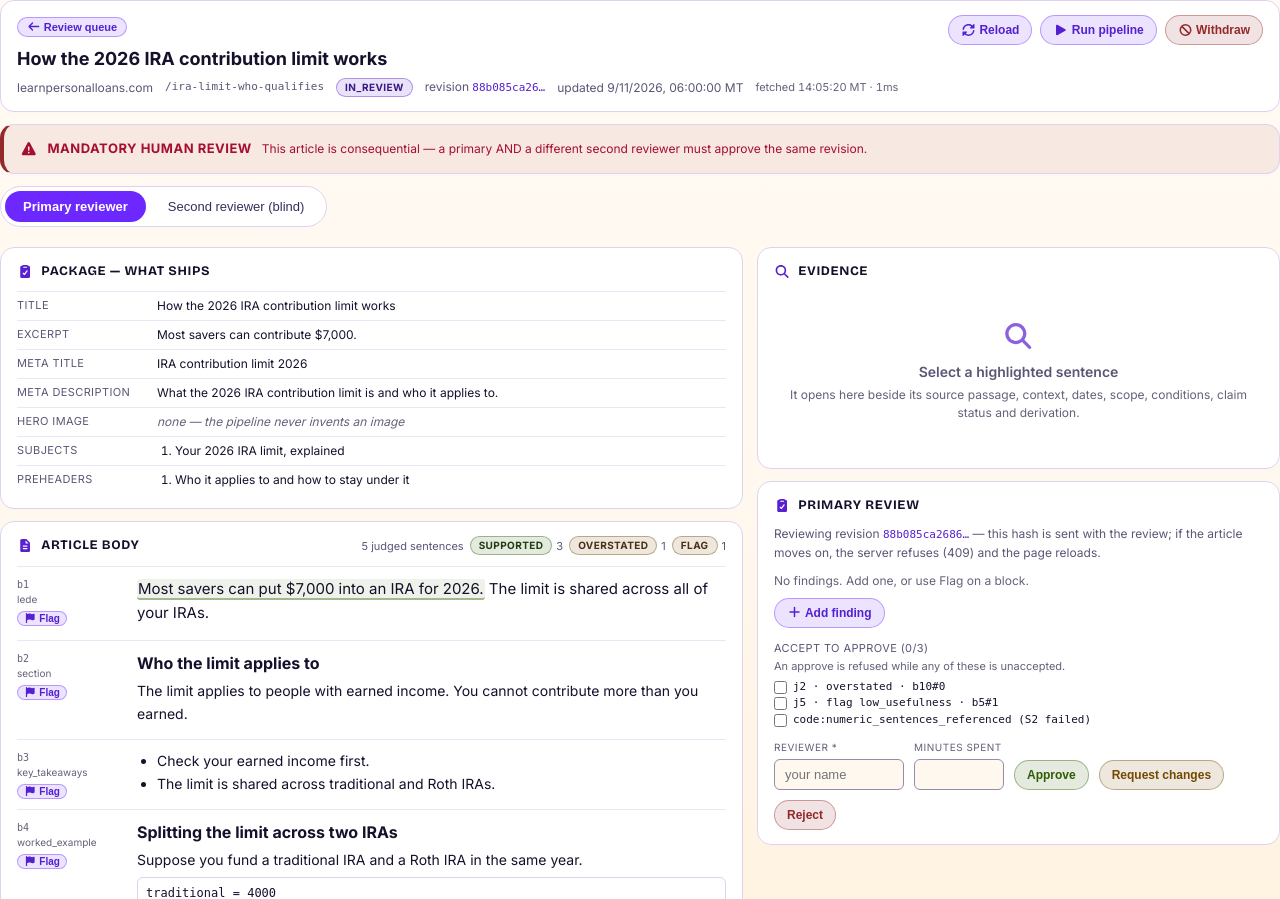
Test case: ContentDeskArticle — review form hash handling › blind second review hides the primary review and verdicts until it submits
Expected: the text "supported" is shown, [479,538,543,553]
Click the tab "Second reviewer (blind)".
click(236, 206)  # box [150,190,322,222]
(page scrolled)
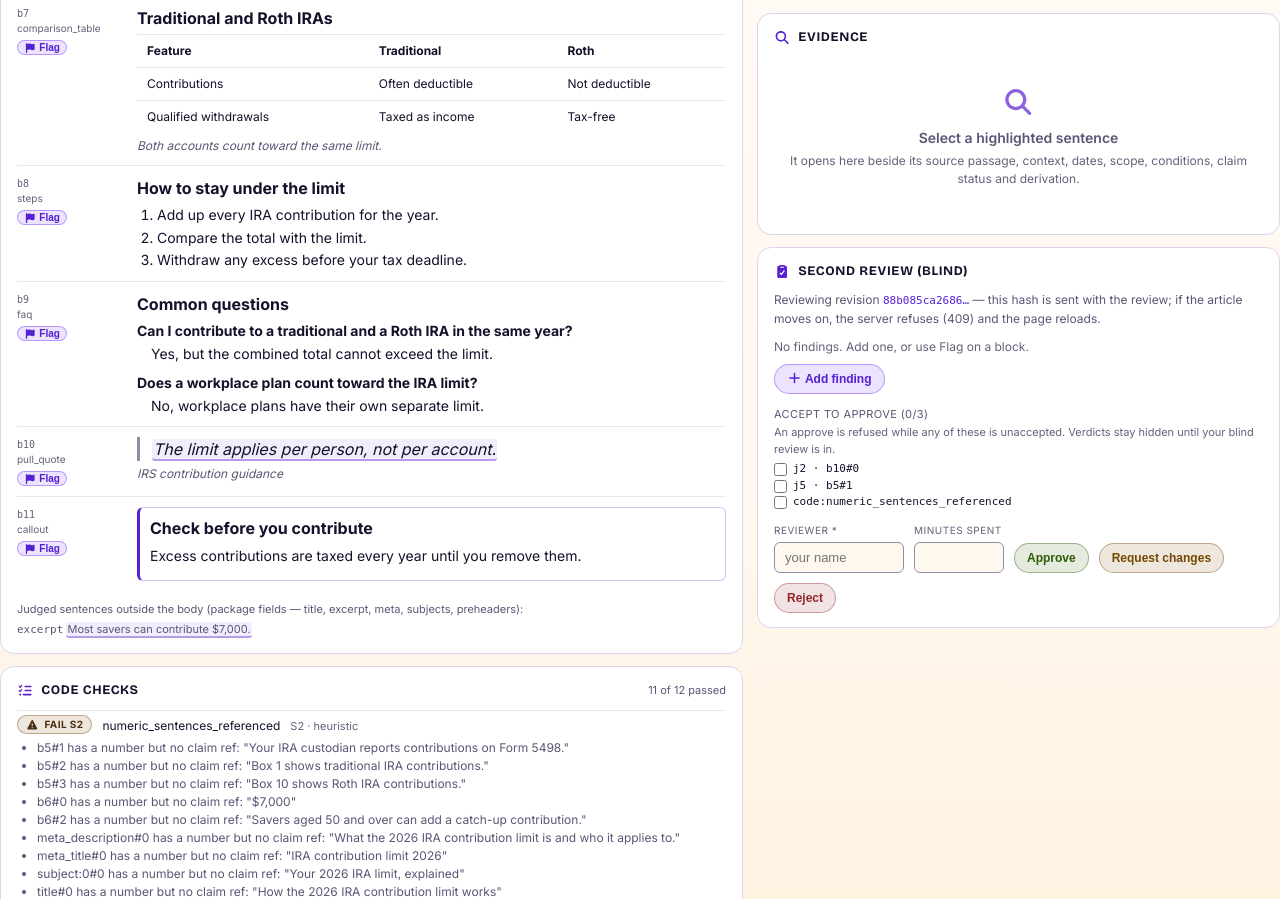
Now no elements with test id "verdict-chip" are shown
Click the 1st button with test id "judged-sentence".
click(324, 450)  # box [152,439,497,461]
(page scrolled)
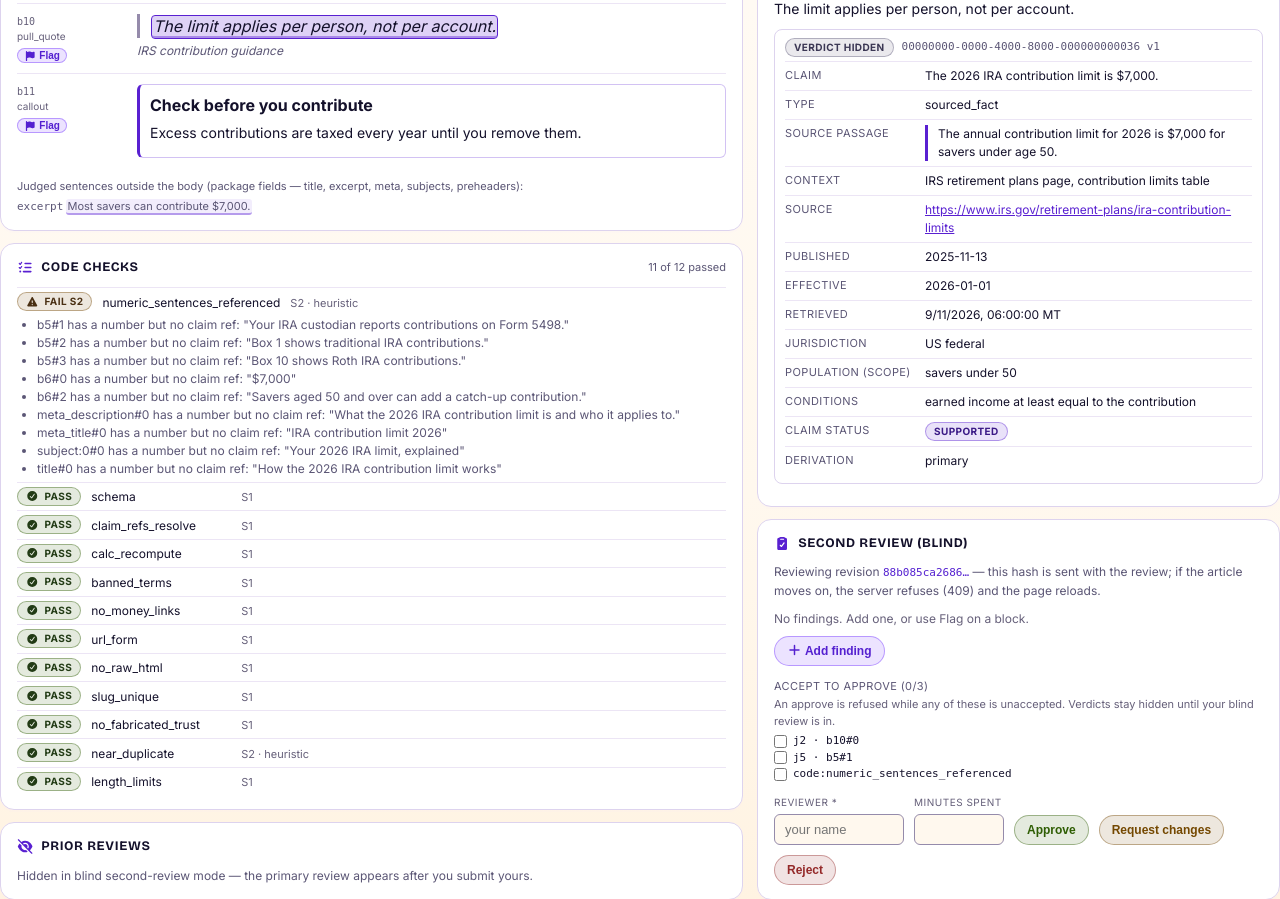
Expected: the text "Lost qualifier" is not shown
Now the text "The annual contribution limit for 2026 is $7,000 for savers under age 50." is shown, box [925,124,1252,160]
Type "bo" into the field labelled "reviewer".
click(839, 829); type("bo")  # box [774,814,904,844]
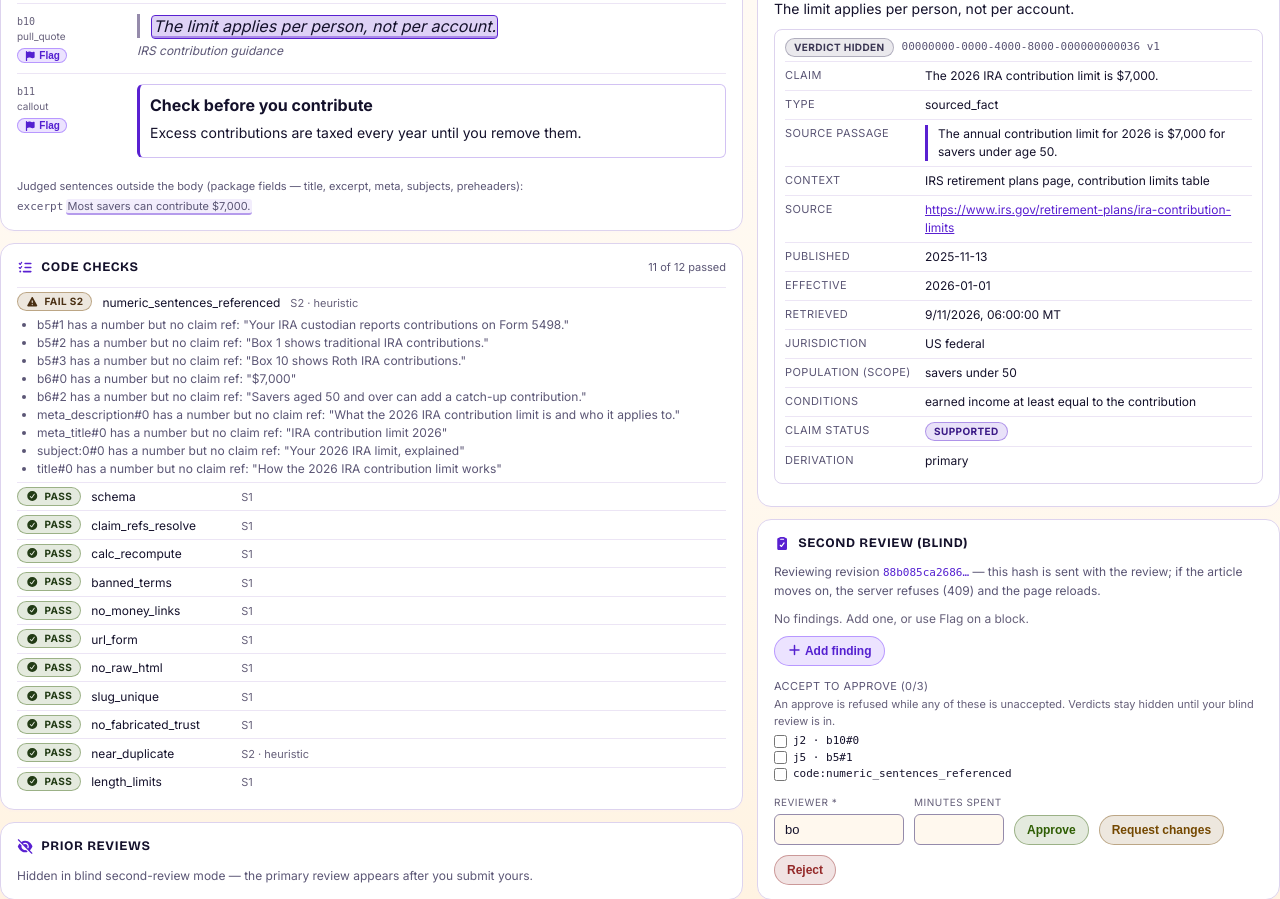
Type "5" into the number field labelled "minutes spent".
click(959, 829); type("5")  # box [914,814,1004,844]
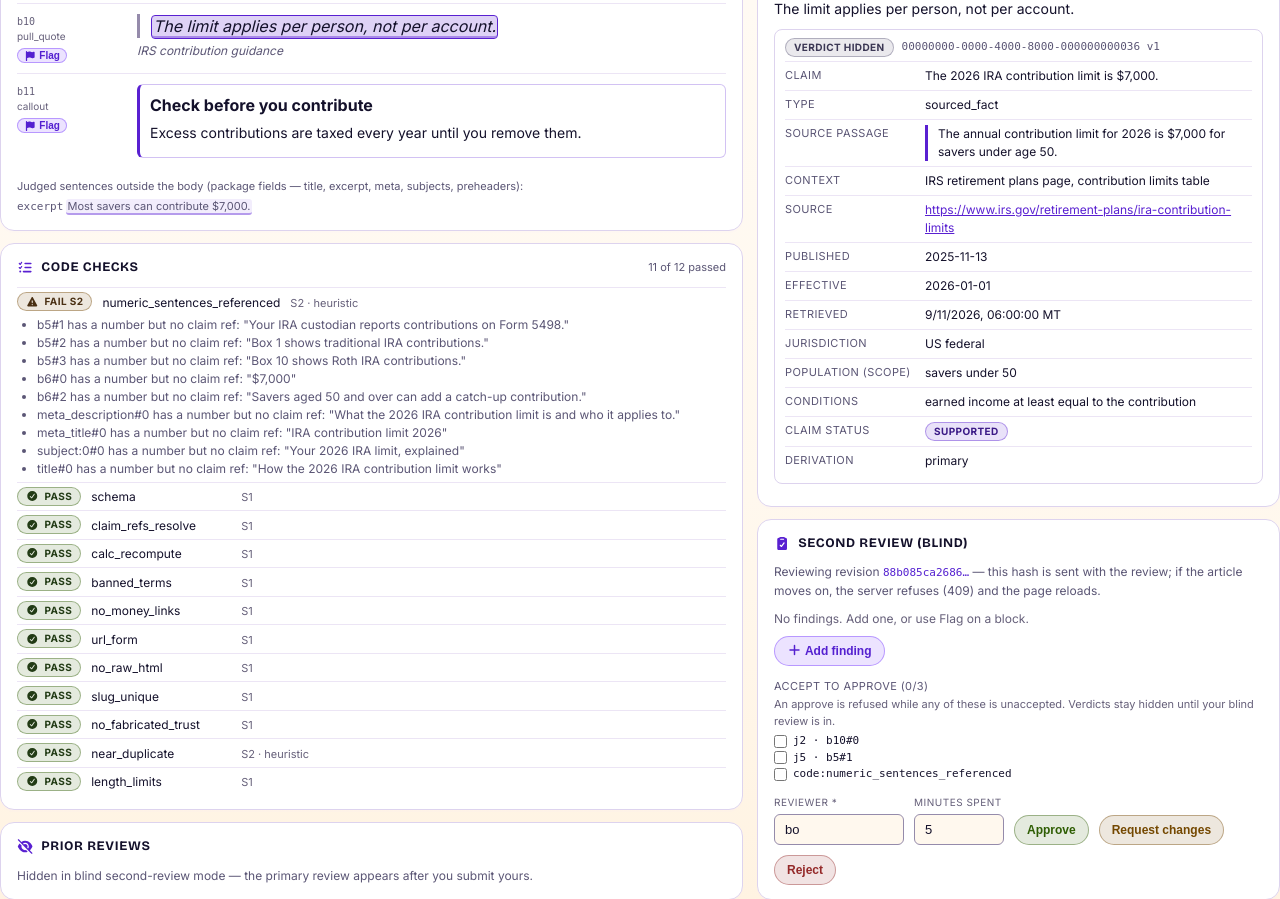
Click the button "Reject".
click(805, 870)  # box [774,854,836,884]
(page scrolled)
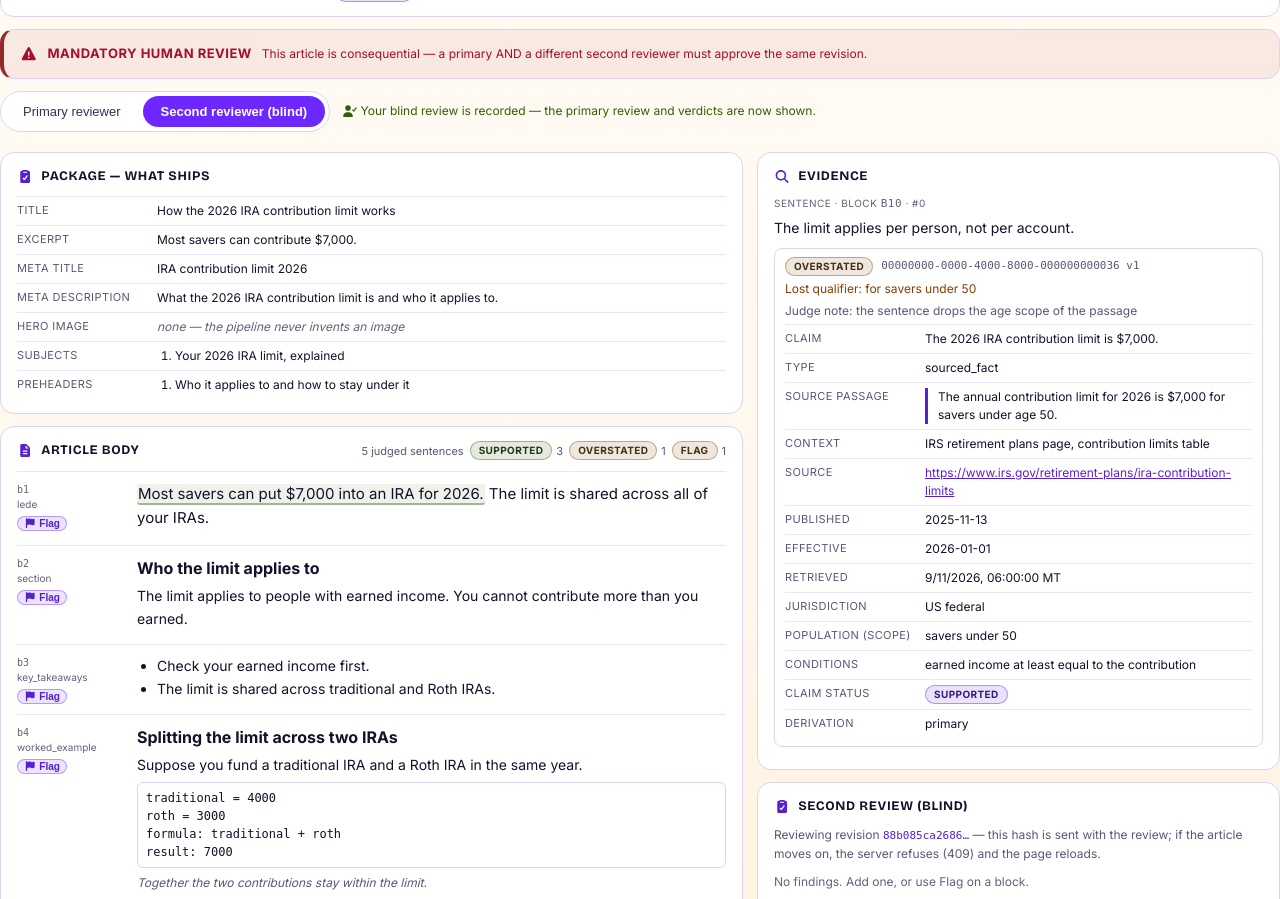
Now the text with test id "verdict-chip" in the row of "Article body" is shown, box [479,443,543,458]
